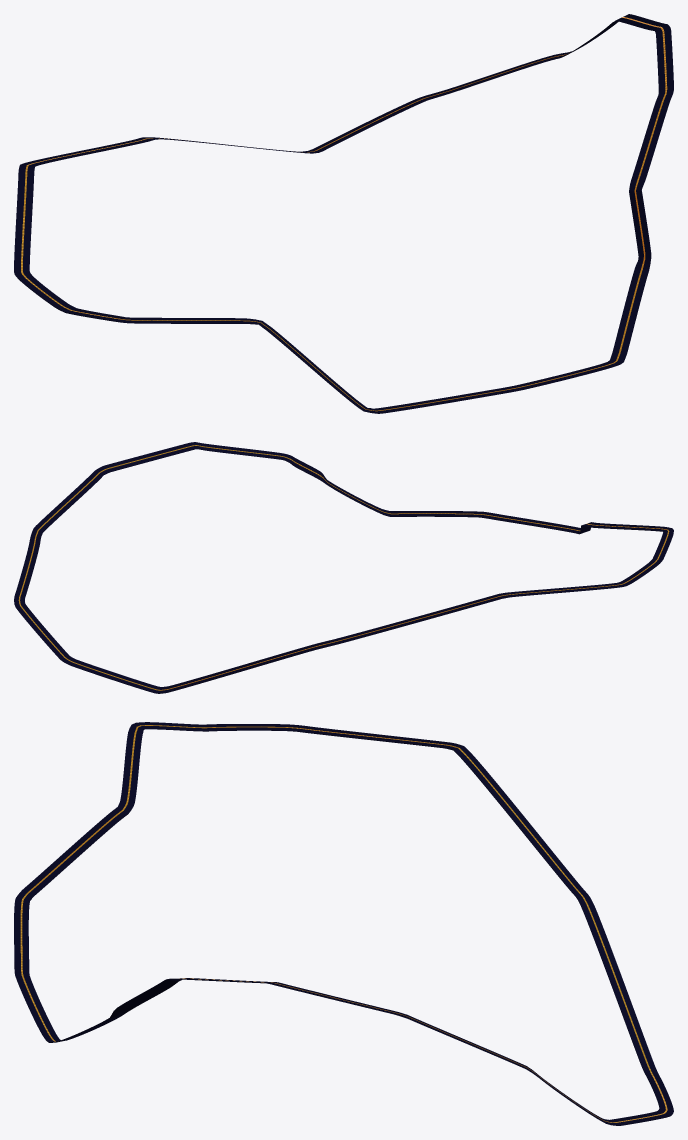
The picture shows the model from 3 angles, top to bottom: view 1: azimuth 30°, elevation 25°; view 2: azimuth 150°, elevation 25°; view 3: azimuth 270°, elevation 25°; orthographic projection. The views are drawn at different scales.
Visible parts, largest first — view 1: Road Segment; view 2: Road Segment; view 3: Road Segment.
Boxes of the visible parts, x1,y1,x2,y2 form: Road Segment: (14, 14, 673, 413); Road Segment: (14, 442, 673, 693); Road Segment: (14, 722, 673, 1125).
Size of the model in its own units: 401 by 90.13 by 331.
